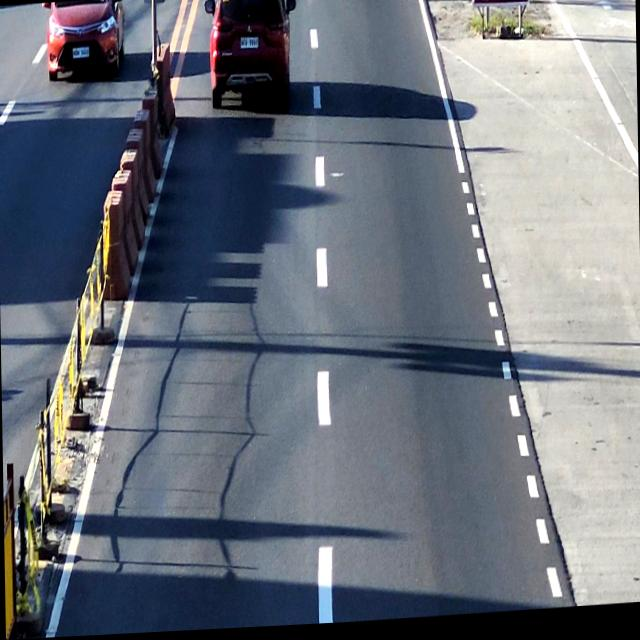Car: (208, 0, 290, 112)
License-Plate: (239, 38, 259, 51)
